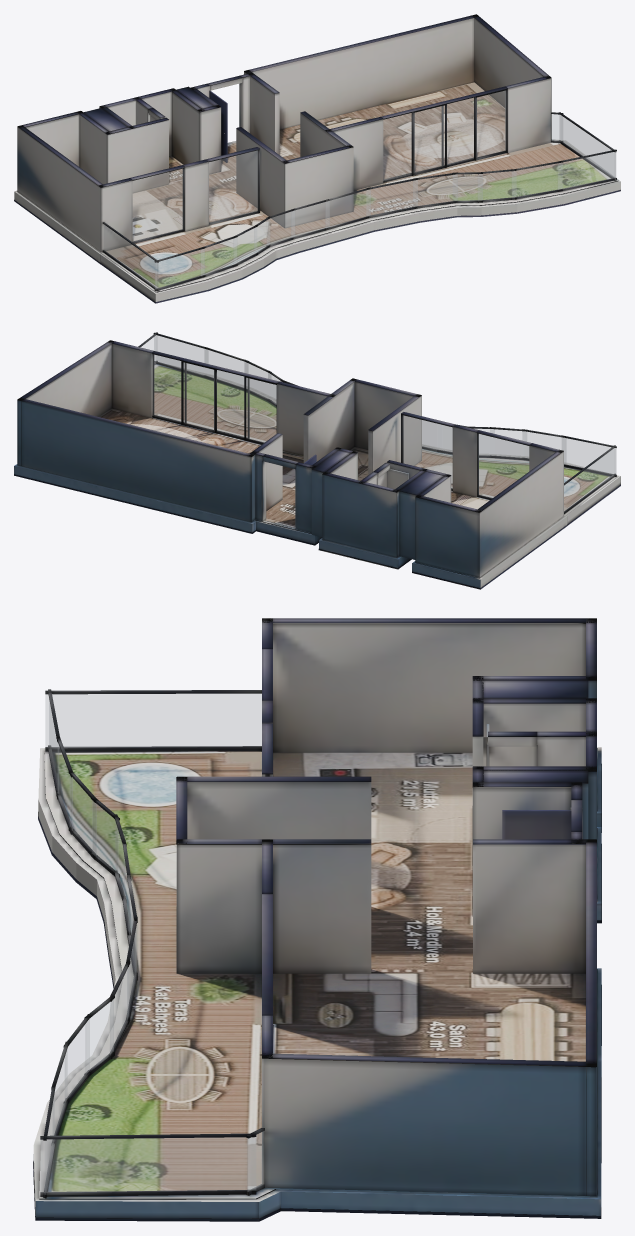
The picture shows the model from 3 angles, top to bottom: view 1: azimuth 30°, elevation 25°; view 2: azimuth 150°, elevation 25°; view 3: azimuth 270°, elevation 25°; orthographic projection. The views are drawn at different scales.
Visible parts, largest first — view 1: plan, glass2_m, glass0_m, glass1_m, railg2_m, railg15_m, railg1_m, railg7_m, railg3_m, railg14_m, railg8_m, railg6_m (+7 smaller); view 2: plan, glass2_m, glass0_m, glass1_m, railg14_m, railg15_m, railg2_m, railg3_m, railg12_m, railg13_m, railg4_m, railg9_m; view 3: plan, railg1_m, railg15_m, railg5_m, railg12_m, railg11_m, railg4_m, railg6_m, railg0_m.
Boxes of the visible parts, box(x1,y1,x2,y2) form: plan: box(14, 14, 620, 303); glass2_m: box(383, 91, 505, 180); glass0_m: box(133, 169, 183, 241); glass1_m: box(209, 150, 257, 222); railg2_m: box(558, 152, 616, 189); railg15_m: box(103, 225, 158, 288); railg1_m: box(560, 115, 615, 178); railg7_m: box(366, 180, 417, 215); railg3_m: box(512, 163, 562, 197); railg14_m: box(155, 249, 204, 288); railg8_m: box(325, 189, 370, 227); railg6_m: box(413, 174, 457, 206); plan: box(14, 332, 620, 589); glass2_m: box(153, 354, 276, 442); glass0_m: box(478, 434, 528, 497); glass1_m: box(403, 415, 452, 488); railg14_m: box(562, 438, 616, 474); railg15_m: box(564, 448, 614, 511); railg2_m: box(154, 335, 208, 374); railg3_m: box(204, 349, 247, 387); railg12_m: box(490, 429, 526, 457); railg13_m: box(523, 431, 566, 464); railg4_m: box(244, 362, 270, 398); railg9_m: box(422, 420, 436, 448); plan: box(33, 618, 601, 1221); railg1_m: box(40, 1137, 255, 1192); railg15_m: box(45, 694, 261, 747); railg5_m: box(86, 999, 113, 1073); railg12_m: box(70, 776, 96, 855); railg11_m: box(92, 801, 117, 873); railg4_m: box(65, 1019, 89, 1100); railg6_m: box(110, 967, 128, 1054); railg0_m: box(247, 1132, 262, 1191).
Bounding box in the file's own units: 17.02 × 2.62 × 8.99.
2 materials, 1 textured.
